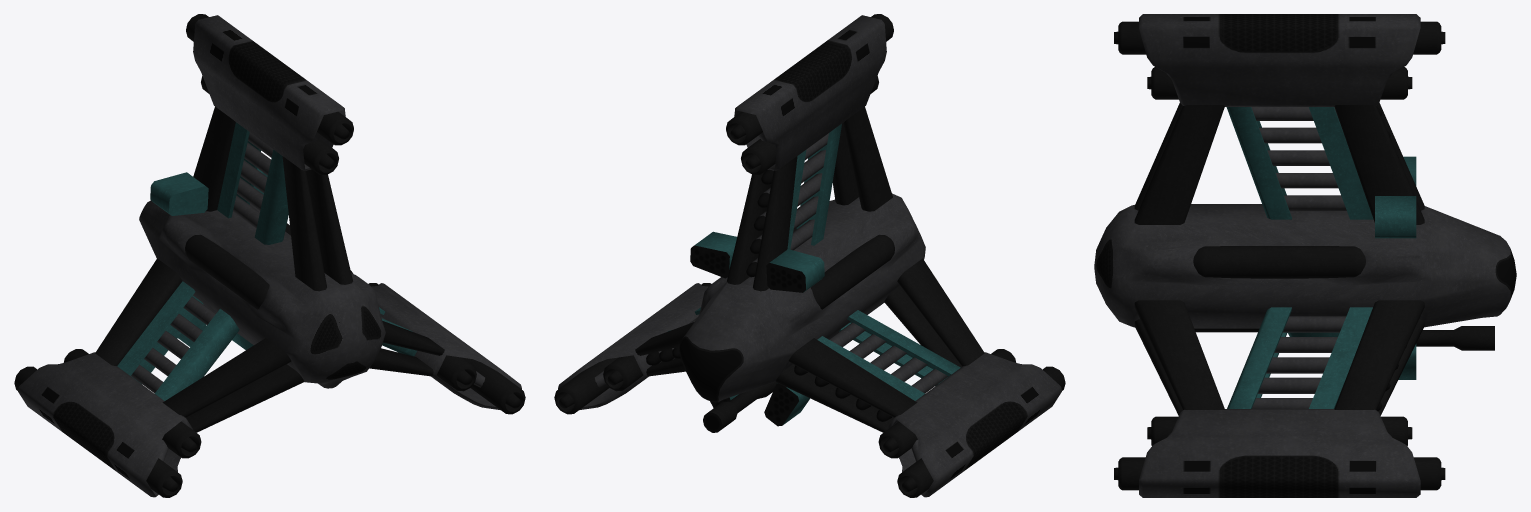
File: Derivative.obj
The picture shows the model from 3 angles, left to right: view 1: azimuth 30°, elevation 25°; view 2: azimuth 150°, elevation 25°; view 3: azimuth 270°, elevation 25°; orthographic projection. The views are drawn at different scales.
Visible parts, largest first — view 1: derivative__high; view 2: derivative__high; view 3: derivative__high.
Boxes of the visible parts, left/top/right/bottom form: derivative__high: left=14, top=14, right=525, bottom=497; derivative__high: left=554, top=14, right=1065, bottom=497; derivative__high: left=1094, top=14, right=1516, bottom=497.
Bounding box in the file's own units: 58.66 × 50.98 × 51.03.
